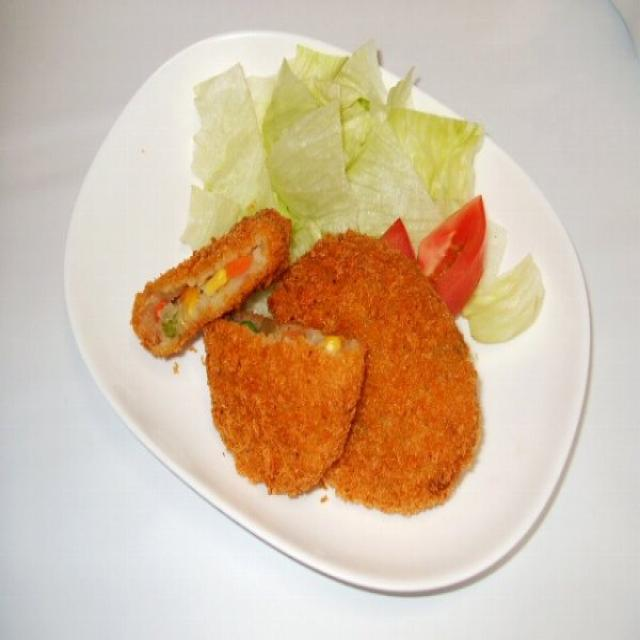炸货点心: (128, 201, 484, 516)
